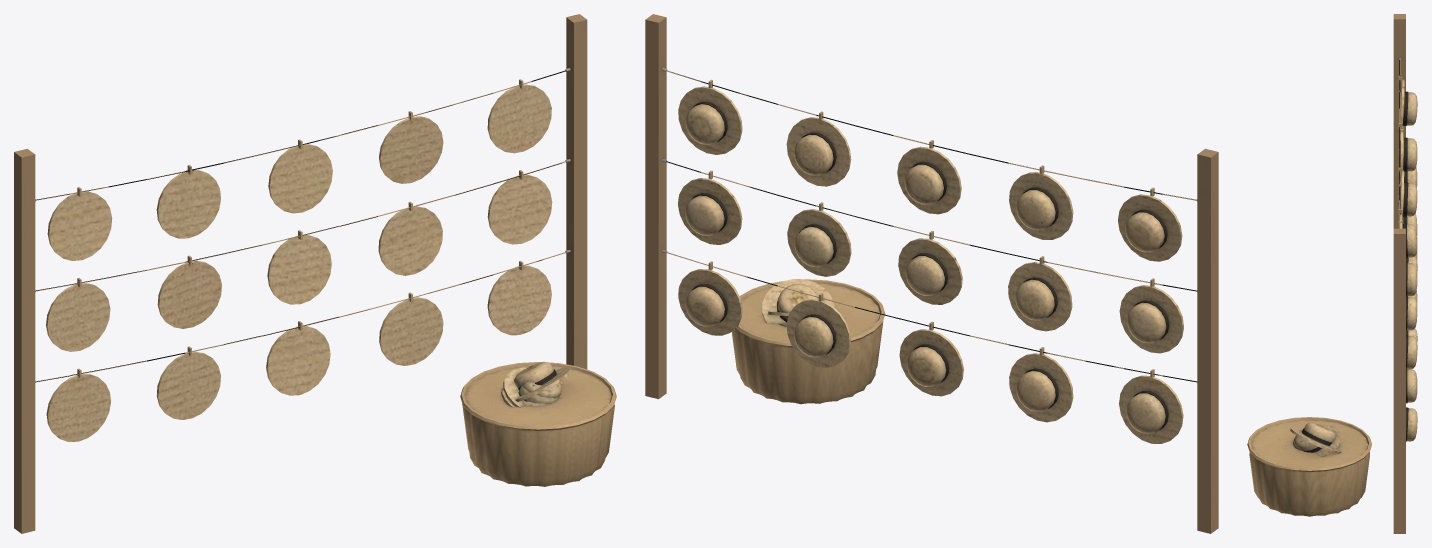
File: hat_rack.glb
3 views of the same model, side by side, from view 1: azimuth 30°, elevation 25°; view 2: azimuth 150°, elevation 25°; view 3: azimuth 270°, elevation 25° (orthographic). The views are drawn at different scales.
Parts seen in each view (by area): view 1: hat_rack; view 2: hat_rack; view 3: hat_rack.
Part boxes in pixels (x1,y1,x2,y2): hat_rack: (14,14,616,533); hat_rack: (645,14,1218,533); hat_rack: (1247,14,1417,533).
Size of the model in its own units: 3.58 by 2.28 by 1.17.
1 material, 1 textured.
